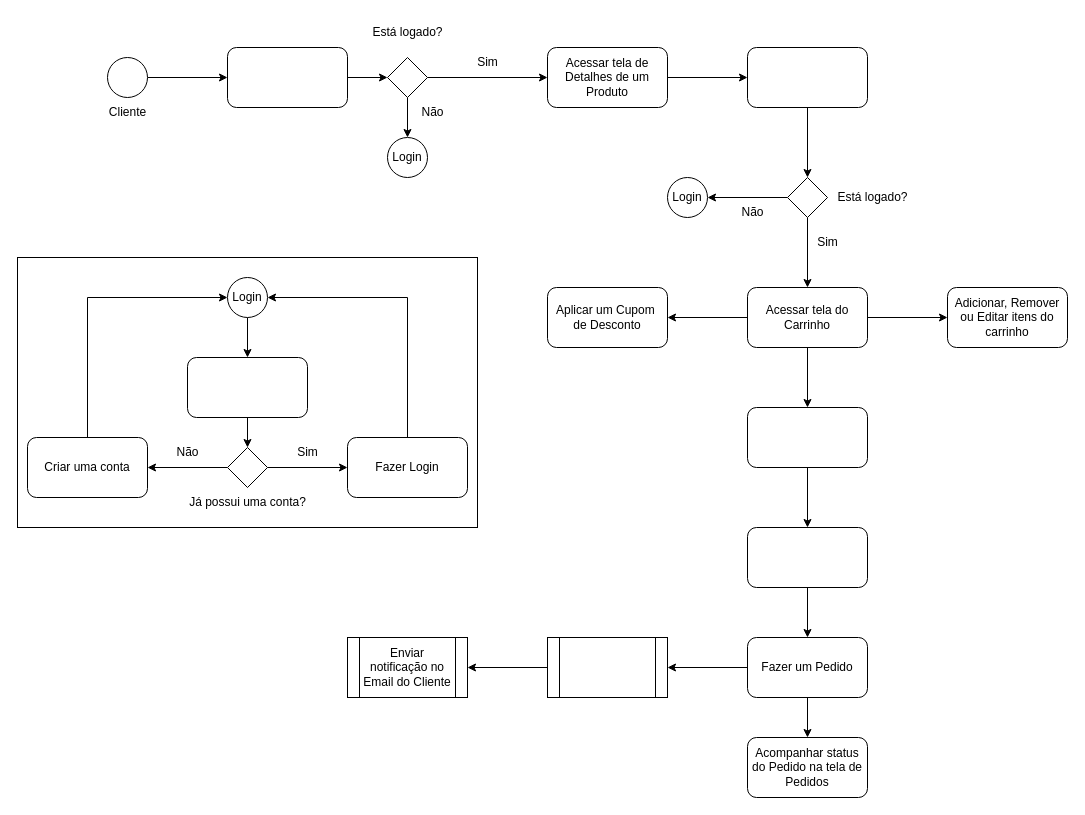
The diagram is 1085 pixels wide and 815 high, and some of its shapes have lost their labels. Here are the shapes that lost their labels. From the top down, the centre of each, then its label:
the point at 287,77: Acessar a Home de Produtos
the point at 807,77: Adicionar Produtos ao Carrinho
the point at 247,387: Acessar tela de Login
the point at 807,437: Fazer Checkout do Carrinho
the point at 807,557: Preencher dados de pagamento
the point at 607,667: Aprovar Pagamento
